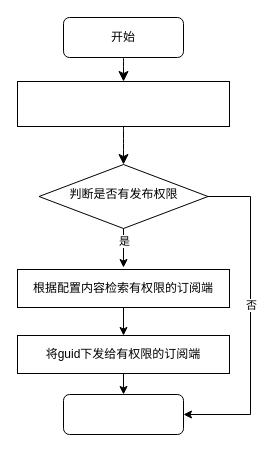
Image size: 276x452. Some labels were removed from this diagram. The shapes that lost their labels are listed below. From the top down, each one's box as (x1, y1, x2, y2) in pixels, then its label:
(16, 80, 230, 126): 接收发布者的<ip，guid，topic>信息
(62, 394, 184, 434): 结束
